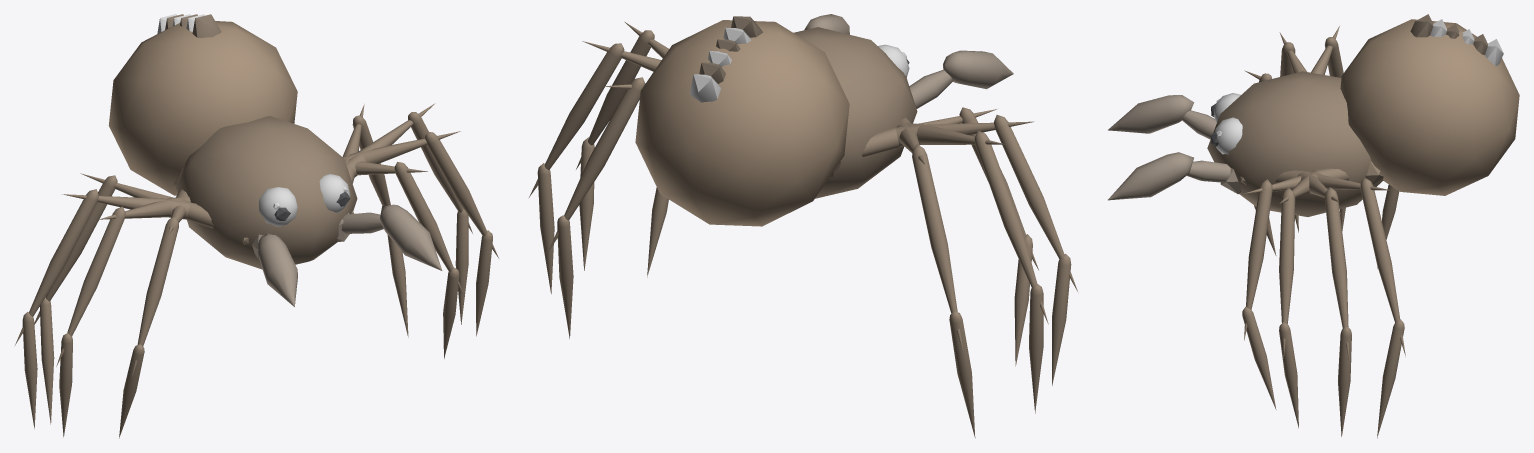
The model's file is neoscona-punctigera.glb.
3 views of the same model, side by side, from view 1: azimuth 30°, elevation 25°; view 2: azimuth 150°, elevation 25°; view 3: azimuth 270°, elevation 25° (orthographic). The views are drawn at different scales.
Parts seen in each view (by area): view 1: abdomen, cephalothorax, leg1-r0, leg2-r0, leg2-l0, leg0-r0, leg3-l0, leg3-r0, leg1-l0, leg0-l0, palp-l1, palp-r1 (+3 smaller); view 2: abdomen, cephalothorax, leg1-r0, leg2-r0, leg0-r0, leg1-l0, leg0-l0, leg2-l0, leg3-r0, palp-r1, palp-r0, leg3-l0 (+1 smaller); view 3: abdomen, cephalothorax, leg0-l0, leg3-l0, leg1-l0, leg2-l0, palp-l1, palp-r1, leg1-r0, eye0-l, palp-l0, leg2-r0 (+2 smaller).
Part boxes in pixels (x1,y1,x2,y2): abdomen: (108, 14, 297, 195); cephalothorax: (173, 116, 357, 269); leg1-r0: (15, 189, 196, 428); leg2-r0: (56, 196, 190, 437); leg2-l0: (343, 131, 498, 336); leg0-r0: (34, 173, 213, 424); leg3-l0: (355, 161, 464, 358); leg3-r0: (119, 189, 188, 438); leg1-l0: (346, 103, 472, 324); leg0-l0: (343, 104, 408, 336); palp-l1: (380, 204, 442, 270); palp-r1: (257, 234, 297, 306); abdomen: (635, 16, 849, 226); cephalothorax: (793, 27, 917, 198); leg1-r0: (895, 122, 1048, 413); leg2-r0: (886, 115, 1077, 385); leg0-r0: (897, 118, 975, 438); leg1-l0: (529, 41, 661, 293); leg0-l0: (548, 77, 645, 338); leg2-l0: (576, 21, 668, 270); leg3-r0: (861, 107, 1038, 366); palp-r1: (943, 50, 1013, 89); palp-r0: (909, 69, 953, 108); leg3-l0: (647, 187, 668, 277); abdomen: (1340, 14, 1519, 195); cephalothorax: (1207, 71, 1383, 216); leg0-l0: (1275, 170, 1405, 438); leg3-l0: (1242, 168, 1350, 409); leg1-l0: (1297, 170, 1351, 436); leg2-l0: (1279, 169, 1321, 428); palp-l1: (1108, 152, 1193, 200); palp-r1: (1108, 95, 1194, 133); leg1-r0: (1311, 26, 1345, 230); eye0-l: (1211, 117, 1242, 154); palp-l0: (1186, 160, 1230, 182); leg2-r0: (1279, 32, 1306, 232).
Size of the model in its own units: 0.5228 by 0.3773 by 0.4191.
